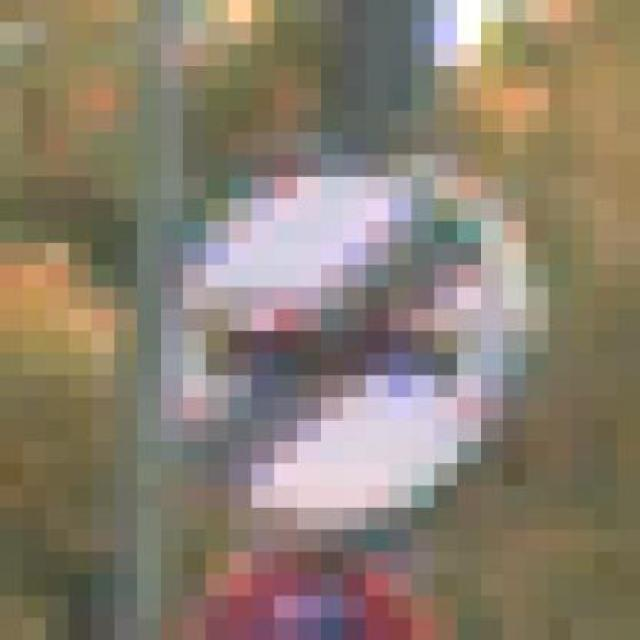No_Over_Taking: (160, 132, 549, 552)
